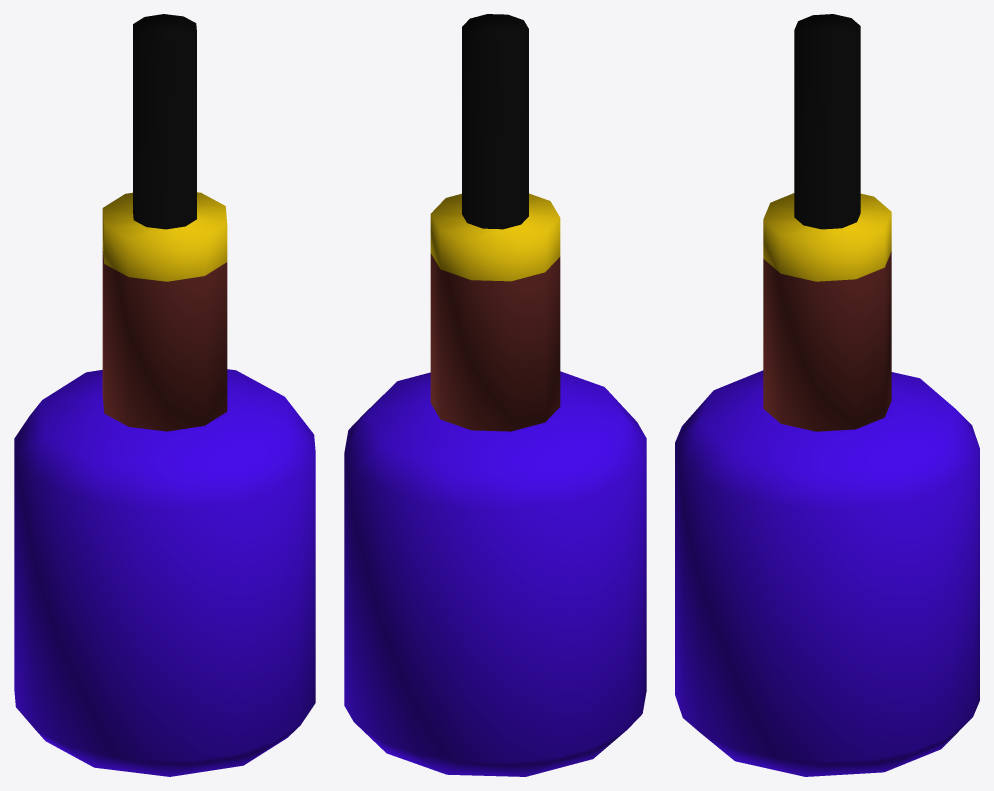
File: martilloAzulShadeSmoothNobrilla.fbx
3 views of the same model, side by side, from view 1: azimuth 30°, elevation 25°; view 2: azimuth 150°, elevation 25°; view 3: azimuth 270°, elevation 25° (orthographic).
Visible parts, largest first — view 1: Cylinder.001, Cylinder; view 2: Cylinder.001, Cylinder; view 3: Cylinder.001, Cylinder.
Boxes of the visible parts, x1,y1,x2,y2 form: Cylinder.001: (14, 369, 315, 776); Cylinder: (102, 14, 227, 431); Cylinder.001: (344, 371, 646, 776); Cylinder: (430, 14, 560, 431); Cylinder.001: (675, 370, 979, 776); Cylinder: (763, 14, 891, 431).
Size of the model in its own units: 140 by 356 by 141.
